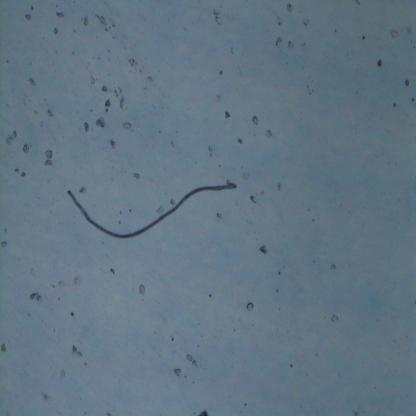Background material: (209, 6, 224, 30), (69, 343, 86, 362), (96, 13, 110, 36), (258, 242, 273, 259), (184, 353, 199, 369), (28, 290, 44, 305), (5, 130, 19, 146), (44, 148, 55, 168), (116, 93, 128, 110), (14, 166, 28, 180), (77, 182, 88, 199), (120, 119, 133, 133), (264, 126, 276, 140), (274, 37, 285, 52), (102, 97, 113, 112), (82, 121, 93, 136), (87, 73, 98, 88), (206, 143, 216, 159), (276, 180, 286, 196), (246, 300, 256, 316), (329, 314, 341, 327), (21, 142, 32, 156), (96, 117, 107, 131), (154, 204, 168, 215), (47, 104, 57, 119), (215, 212, 227, 224), (235, 135, 246, 148), (55, 8, 66, 21), (0, 237, 11, 250), (173, 367, 183, 381), (389, 27, 399, 41), (126, 55, 136, 69), (138, 284, 148, 298), (109, 139, 119, 152), (29, 76, 37, 92), (101, 84, 112, 95), (132, 171, 143, 182), (286, 3, 296, 15), (82, 15, 91, 28), (376, 56, 384, 70), (252, 115, 260, 128), (198, 407, 209, 416), (0, 343, 8, 355), (52, 26, 61, 36), (24, 13, 34, 22), (60, 368, 67, 380), (287, 40, 295, 50), (169, 138, 177, 148), (108, 264, 116, 274), (250, 193, 256, 206), (67, 309, 75, 318), (224, 111, 232, 120), (404, 78, 412, 86), (171, 198, 176, 208), (331, 264, 337, 270), (218, 70, 222, 76), (128, 208, 132, 213), (278, 270, 281, 276), (276, 288, 279, 294), (393, 102, 396, 107), (412, 98, 414, 102)
Microfibre: (64, 182, 244, 240)
